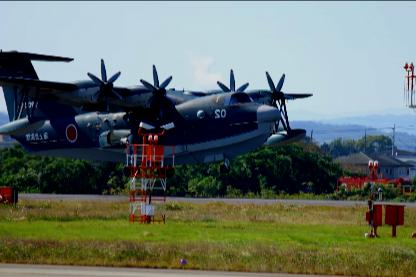Tu95: (1, 49, 314, 178)
